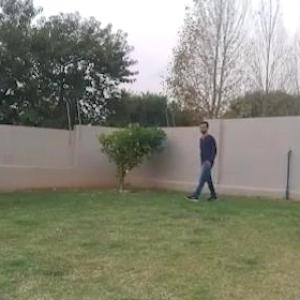follow: (197, 121, 218, 204)
